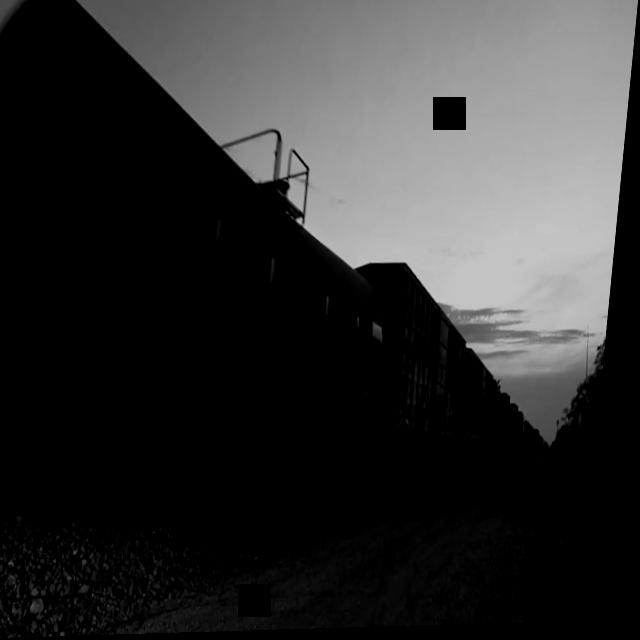boxcar: (371, 250, 489, 468)
tank: (0, 0, 426, 502)
